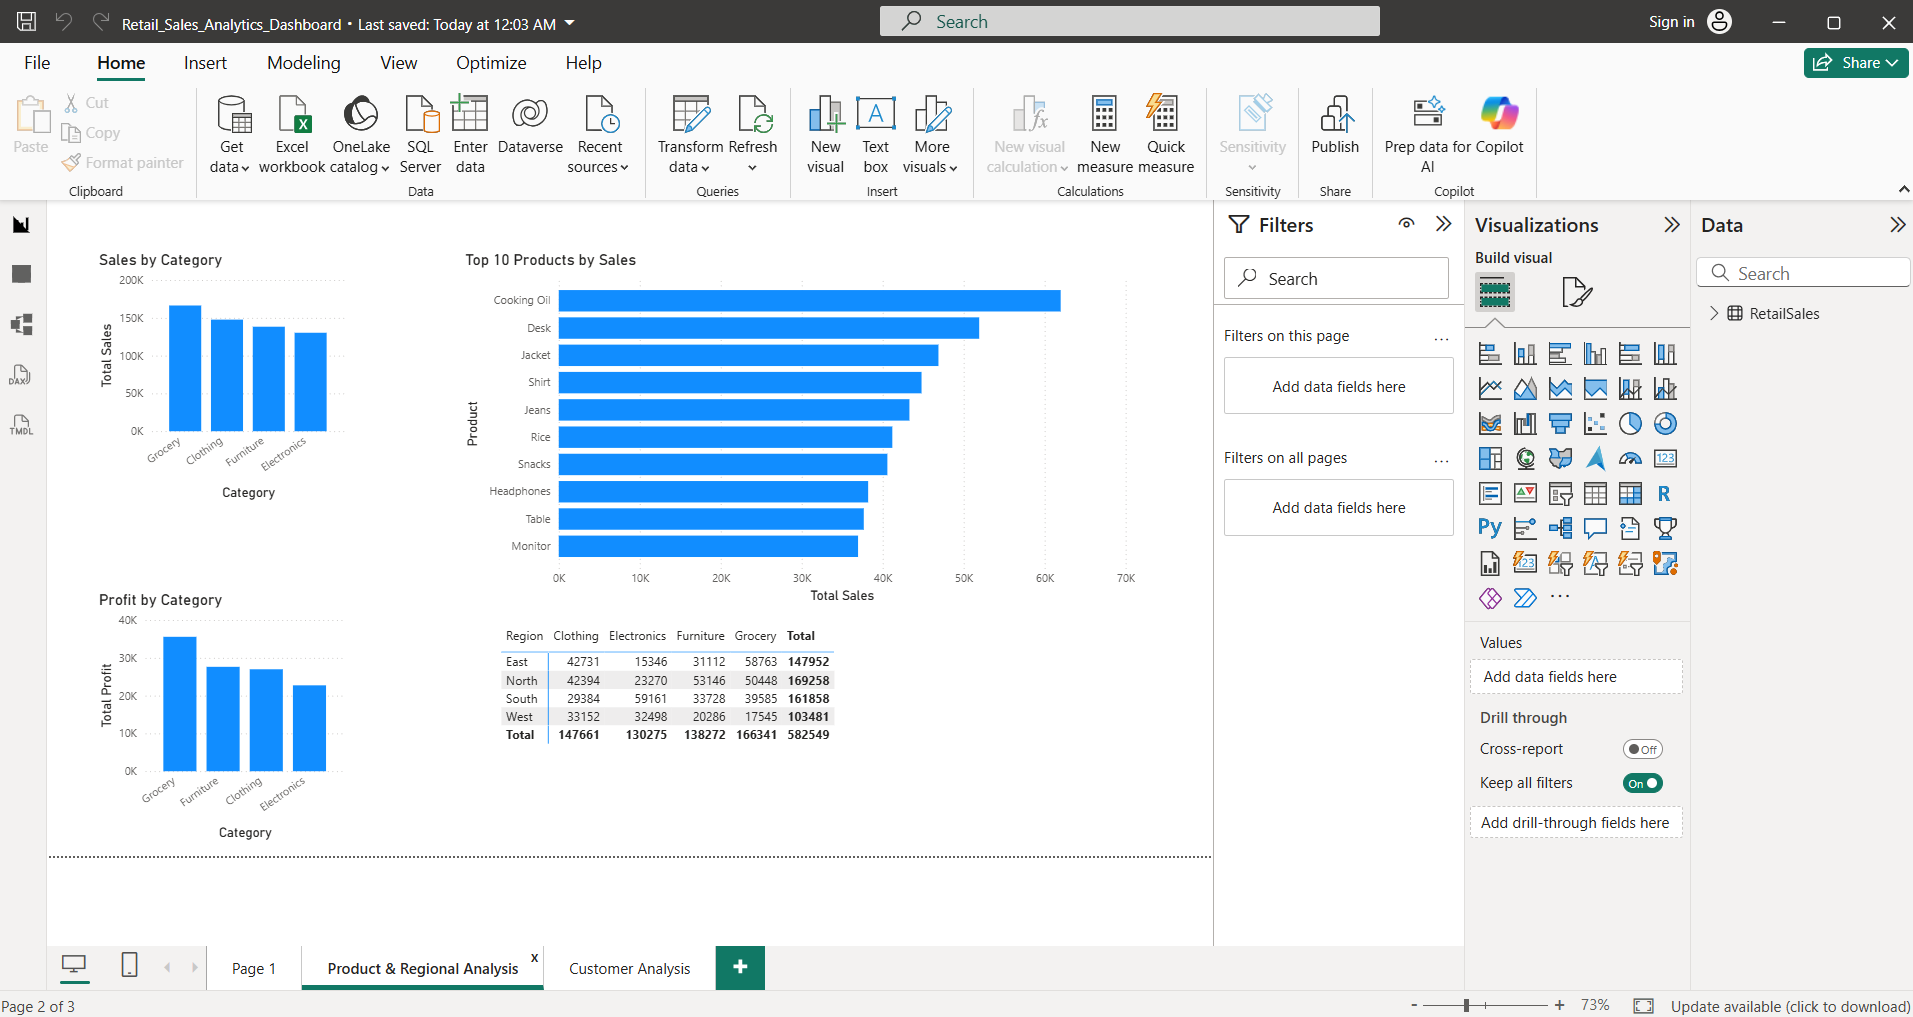

This screenshot's page, from the dashboard's own definition file:
{"tool":"powerbi","page":{"name":"Product & Regional Analysis","canvas":[1280,720],"ordinal":1},"visuals":[{"type":"clusteredColumnChart","title":"Sales by Category","fields":{"Category":["RetailSales.Category"],"Y":["RetailSales.Total Sales"]},"box":[52.1,54.9,279.9,279.9],"z":0},{"type":"clusteredColumnChart","title":" Profit by Category","fields":{"Category":["RetailSales.Category"],"Y":["RetailSales.Total Profit"]},"box":[52.1,428.1,279.9,279.9],"z":1},{"type":"clusteredBarChart","title":"Top 10 Products by Sales","fields":{"Category":["RetailSales.Product"],"Y":["RetailSales.Total Sales"]},"box":[454.2,54.9,745.1,392.5],"z":2},{"type":"pivotTable","fields":{"Rows":["RetailSales.Region"],"Columns":["RetailSales.Category"],"Values":["RetailSales.Total Sales"]},"box":[494,462.4,745.1,245.6],"z":3}]}

Visuals, with their boxes on the page's 1280x720 design canvas (x1, y1, x2, y2). These are canvas units, not pixel positions in the 1913x1017 screenshot, which may show the page scaled, cropped or inside an application window:
"Sales by Category" clusteredColumnChart: 52/55/332/335
" Profit by Category" clusteredColumnChart: 52/428/332/708
"Top 10 Products by Sales" clusteredBarChart: 454/55/1199/447
pivotTable - RetailSales.Region x RetailSales.Category: 494/462/1239/708
